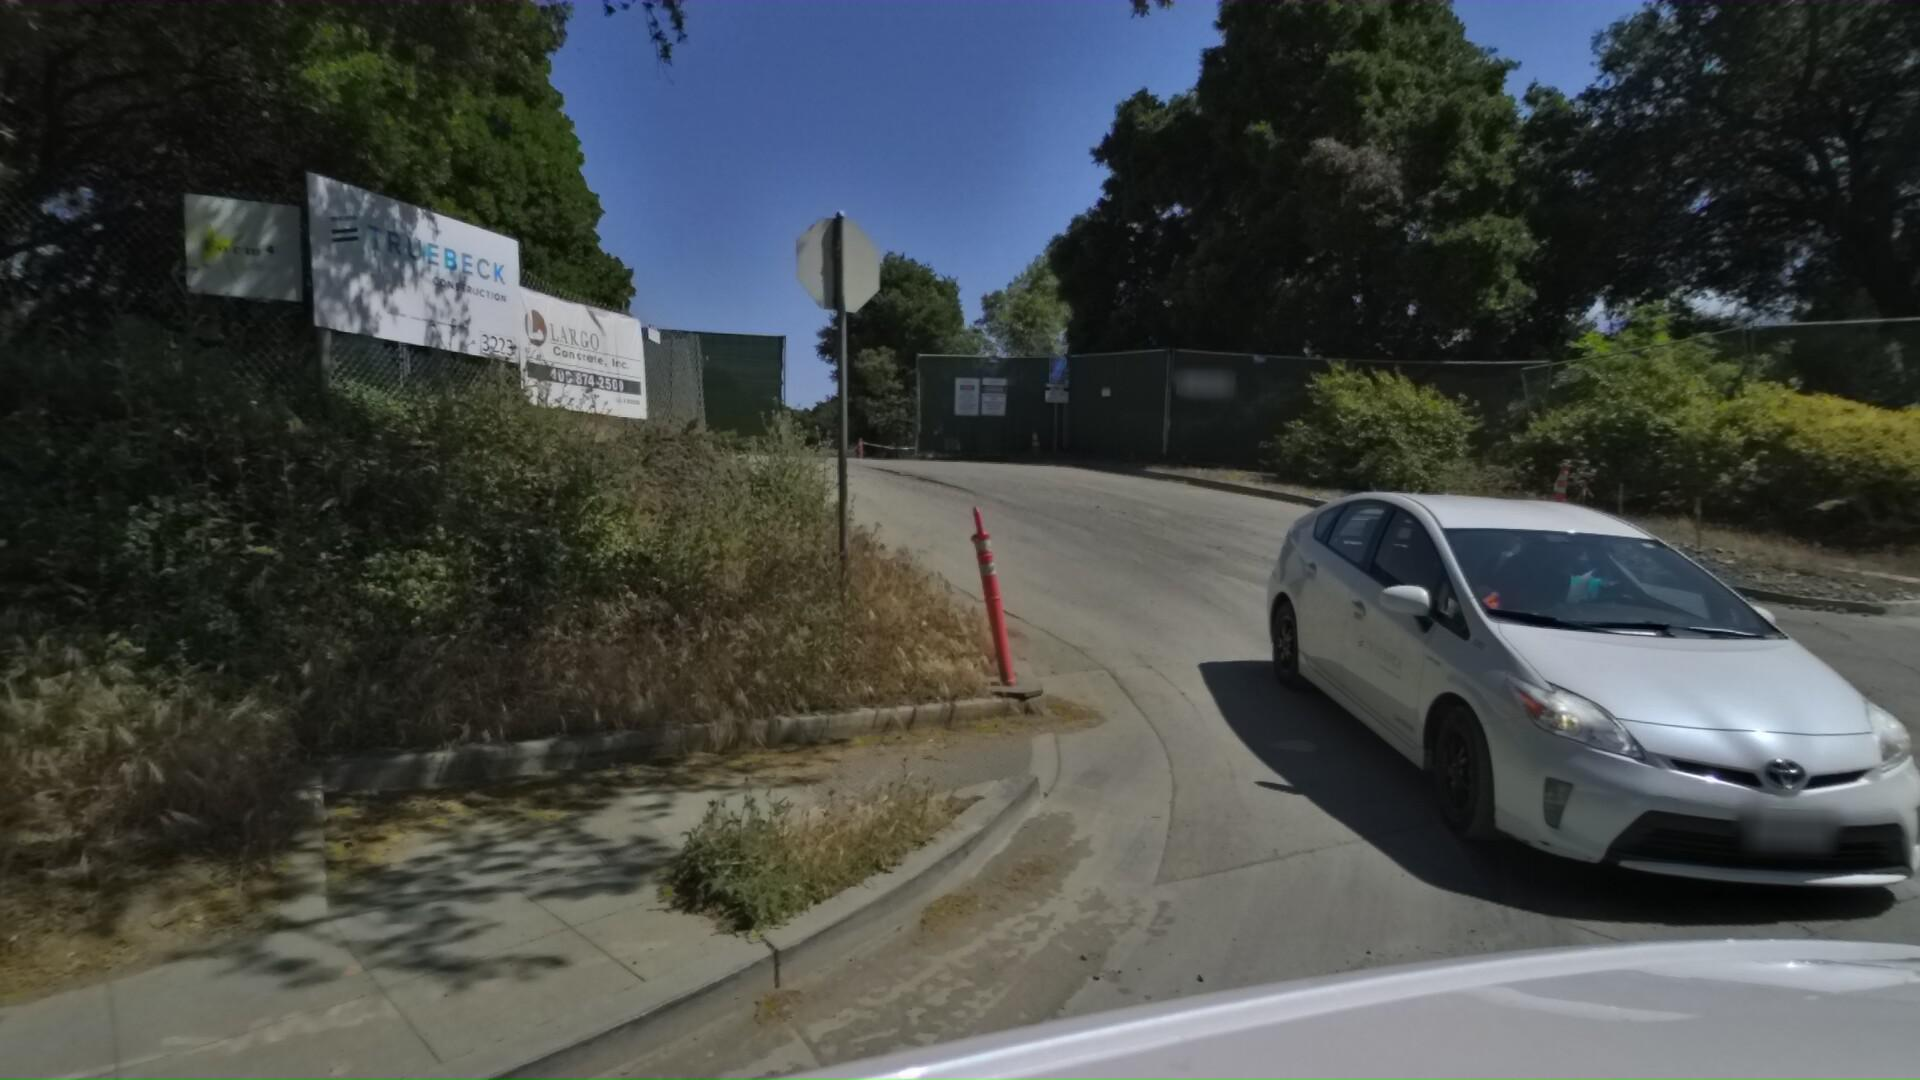car: (1265, 443, 1920, 895)
